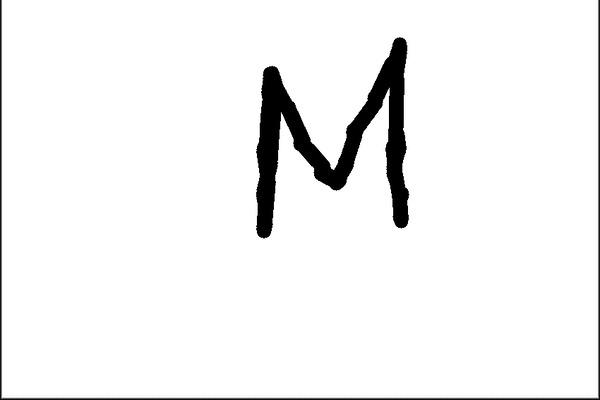M: (249, 36, 417, 236)
